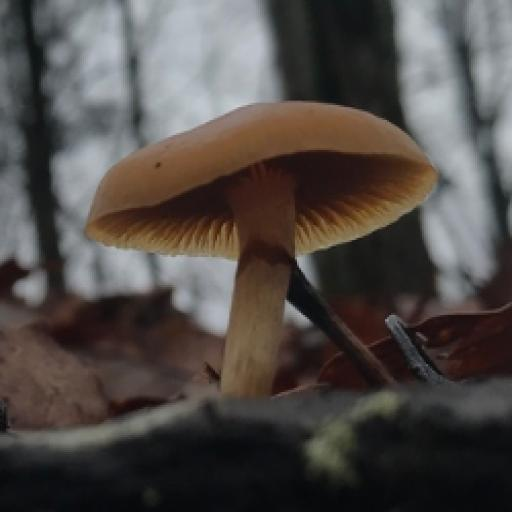mushroom: (78, 88, 445, 341)
